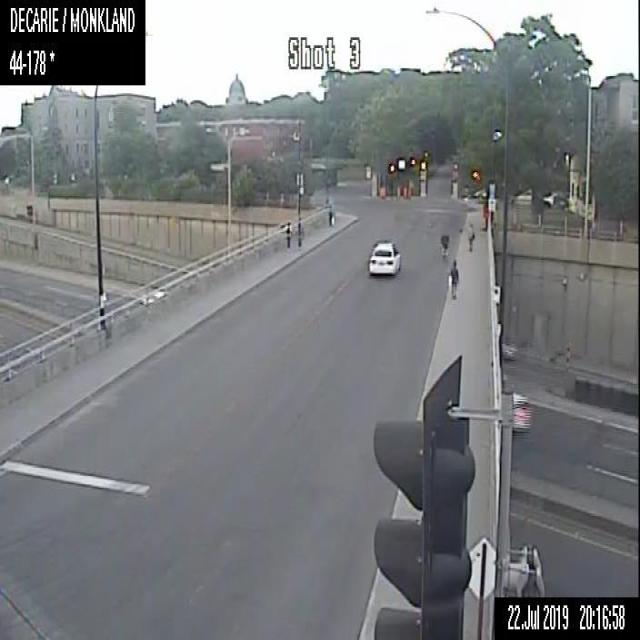cyclist: (439, 232, 449, 259)
pedestrian: (449, 260, 458, 299), (326, 198, 334, 226), (466, 222, 474, 250), (284, 220, 291, 247)
vehicle: (368, 240, 400, 275), (510, 390, 530, 430), (498, 339, 516, 360)
